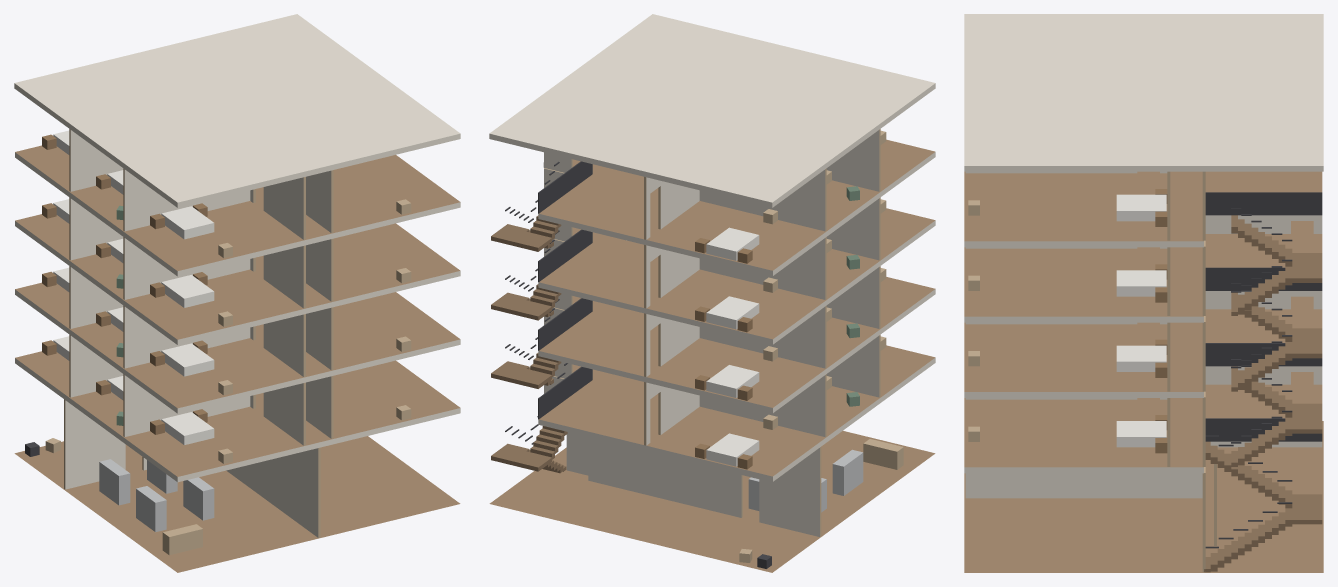
Rendered from interior.glb.
The picture shows the model from 3 angles, left to right: view 1: azimuth 30°, elevation 25°; view 2: azimuth 150°, elevation 25°; view 3: azimuth 270°, elevation 25°; orthographic projection. The views are drawn at different scales.
Parts seen in each view (by area): view 1: slabs, partitions, coarse-s0, coarse-s1, coarse-s2, coarse-s3, coarse-s4; view 2: slabs, partitions, stair, coarse-s0, coarse-s1, coarse-s4, coarse-s2, coarse-s3; view 3: slabs, stair, partitions, coarse-s4, coarse-s3, coarse-s1, coarse-s2.
Part boxes in pixels (<box>): slabs: <box>14,14,460,572</box>; partitions: <box>64,129,333,537</box>; coarse-s0: <box>25,438,214,555</box>; coarse-s1: <box>42,336,411,463</box>; coarse-s2: <box>42,267,411,395</box>; coarse-s3: <box>42,199,411,326</box>; coarse-s4: <box>42,130,411,258</box>; slabs: <box>489,14,935,572</box>; partitions: <box>544,129,880,536</box>; stair: <box>491,161,592,473</box>; coarse-s0: <box>739,439,903,568</box>; coarse-s1: <box>695,336,886,469</box>; coarse-s4: <box>695,130,886,263</box>; coarse-s2: <box>695,268,886,400</box>; coarse-s3: <box>695,199,886,332</box>; slabs: <box>964,14,1323,572</box>; stair: <box>1204,192,1322,572</box>; partitions: <box>965,171,1322,572</box>; coarse-s4: <box>968,189,1167,226</box>; coarse-s3: <box>968,264,1167,302</box>; coarse-s1: <box>968,415,1167,453</box>; coarse-s2: <box>968,339,1167,377</box>.
Size of the model in its own units: 14.3 by 17.9 by 14.3.
